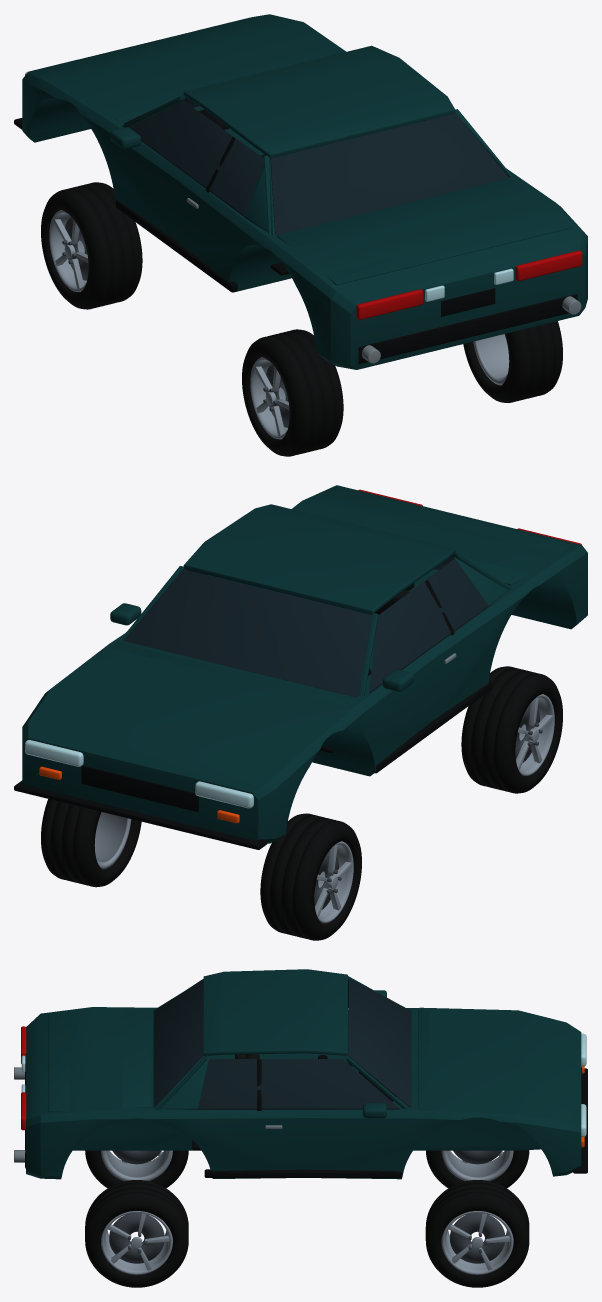
File: Cedar_Coupe_Prototype.obj
The picture shows the model from 3 angles, top to bottom: view 1: azimuth 30°, elevation 25°; view 2: azimuth 150°, elevation 25°; view 3: azimuth 270°, elevation 25°; orthographic projection. The views are drawn at different scales.
Visible parts, largest first — view 1: BodyShell, RoofPanel, RearGlass, Wheel_RL_Tire, Wheel_FL_Tire, TrunkPanel, SideGlass_L, Wheel_RR_Tire, RearValance, Wheel_RL_Rim, Wheel_FL_Rim, Wheel_RR_Rim (+5 smaller); view 2: BodyShell, Windshield, RoofPanel, Wheel_FL_Tire, Wheel_RL_Tire, SideGlass_L, Wheel_FR_Tire, TrunkPanel, FrontSplitter, FrontGrille, Wheel_FL_Rim, Wheel_RL_Rim (+7 smaller); view 3: BodyShell, RoofPanel, SideGlass_R, Windshield, Wheel_FR_Tire, Wheel_RR_Tire, TrunkPanel, RearGlass, Wheel_FR_Rim, Wheel_RR_Rim, Wheel_RR_BrakeDisc, Wheel_FR_BrakeDisc (+10 smaller).
Boxes of the visible parts, x1,y1,x2,y2 form: BodyShell: (22,14,587,369); RoofPanel: (183,45,455,158); RearGlass: (270,113,509,235); Wheel_RL_Tire: (242,329,343,456); Wheel_FL_Tire: (41,182,142,309); TrunkPanel: (277,178,572,285); SideGlass_L: (129,101,264,216); Wheel_RR_Tire: (463,321,562,402); RearValance: (358,294,577,364); Wheel_RL_Rim: (250,357,289,439); Wheel_FL_Rim: (49,210,88,291); Wheel_RR_Rim: (473,334,509,385); BodyShell: (22,485,587,843); Windshield: (123,569,371,697); RoofPanel: (183,504,455,614); Wheel_FL_Tire: (260,813,361,940); Wheel_RL_Tire: (461,666,562,793); SideGlass_L: (369,559,488,693); Wheel_FR_Tire: (41,799,141,887); TrunkPanel: (325,487,572,585); FrontSplitter: (14,780,267,849); FrontGrille: (81,765,198,812); Wheel_FL_Rim: (315,841,353,923); Wheel_RL_Rim: (516,694,554,775); BodyShell: (26,1007,581,1179); RoofPanel: (203,969,347,1055); SideGlass_R: (198,1059,399,1109); Windshield: (348,978,411,1107); Wheel_FR_Tire: (425,1180,529,1287); Wheel_RR_Tire: (85,1180,188,1287); TrunkPanel: (48,1010,150,1112); RearGlass: (153,979,203,1107); Wheel_FR_Rim: (441,1211,513,1274); Wheel_RR_Rim: (101,1211,172,1274); Wheel_RR_BrakeDisc: (109,1213,164,1263); Wheel_FR_BrakeDisc: (450,1213,505,1263).
Bounding box in the file's own units: 7.72 × 6.74 × 15.5.
